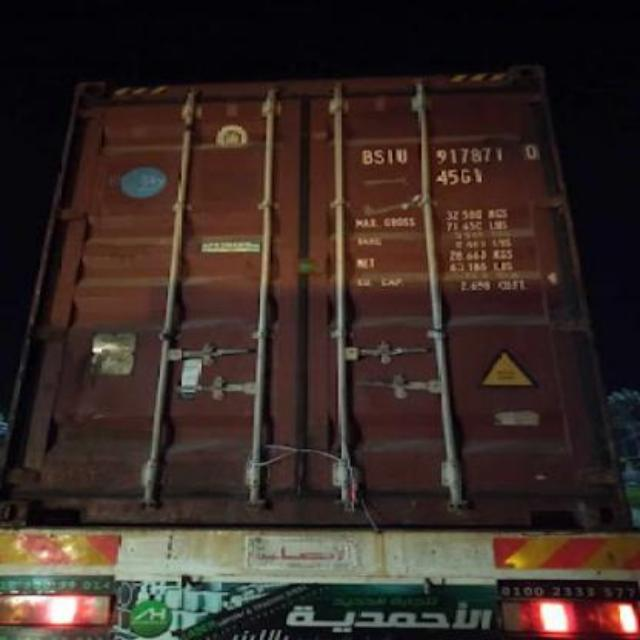0: (520, 136, 538, 162)
1: (492, 136, 504, 164), (446, 140, 458, 164)
7: (480, 132, 492, 166), (456, 142, 468, 166)
8: (468, 140, 482, 163)
9: (434, 142, 446, 164)
B: (358, 146, 372, 166)
I: (384, 142, 394, 164)
S: (372, 142, 384, 168)
U: (394, 142, 408, 168)
